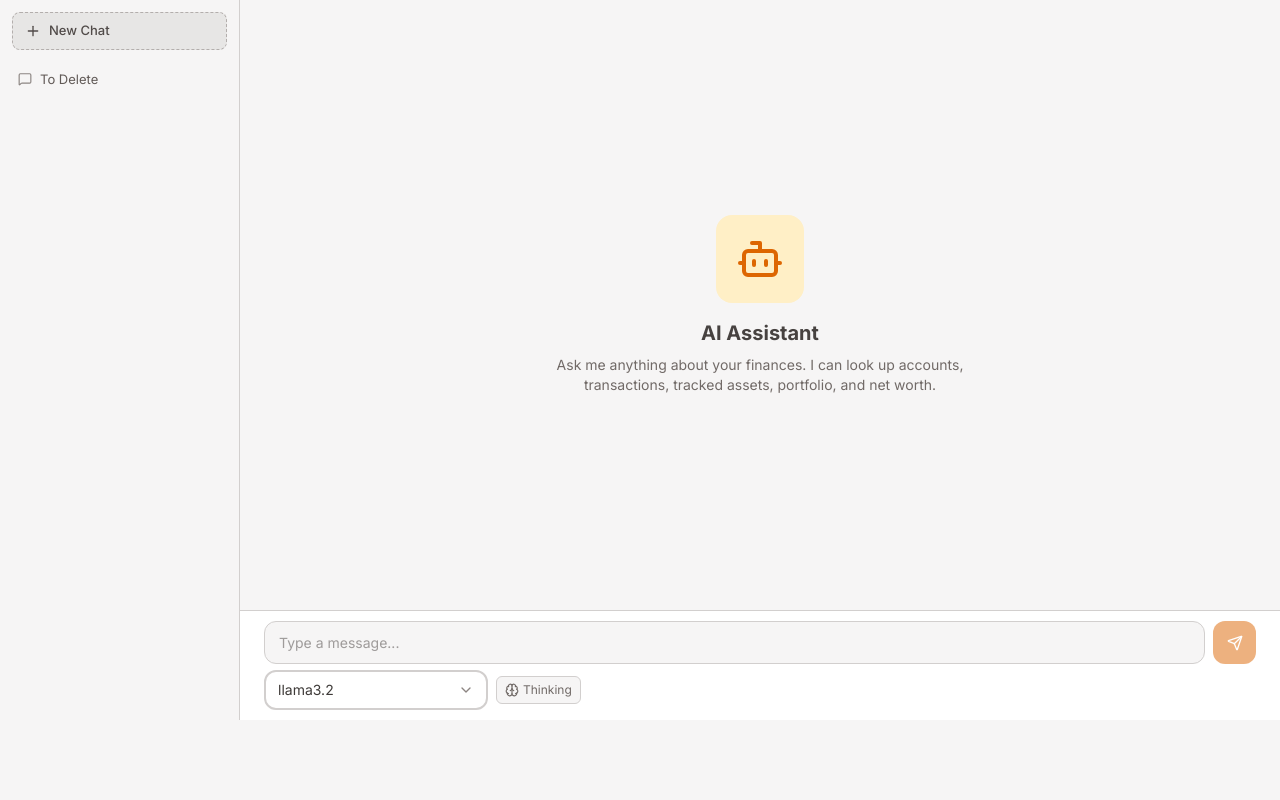
it: ChatView coverage › clears messages when the active conversation is deleted
Click the text "To Delete". click: click(69, 78)
box: left=40, top=70, right=98, bottom=86
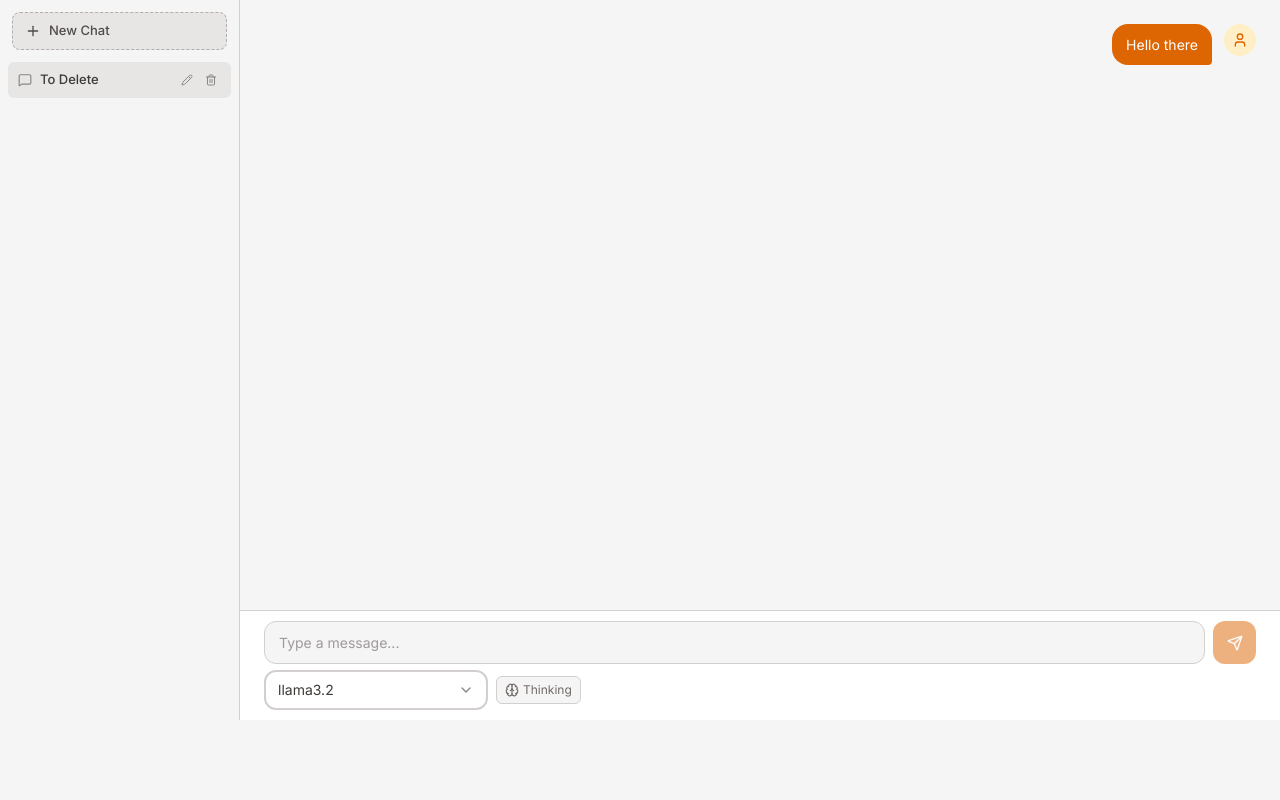
Now the text "Hello there" is shown, box left=1126, top=34, right=1198, bottom=55
Click the button titled "Delete conversation". click: click(211, 80)
box: left=201, top=70, right=221, bottom=90
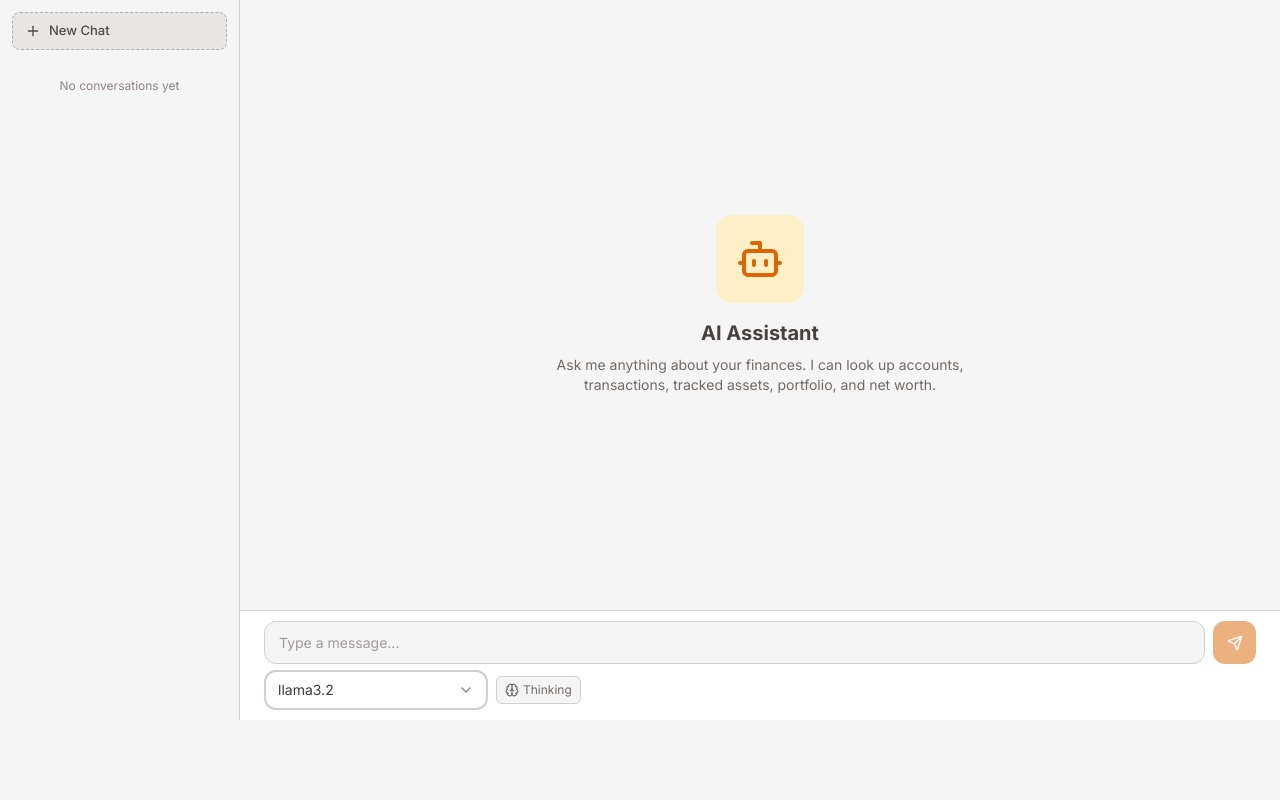
Now the text "Hello there" is gone
Now the text "To Delete" is gone
